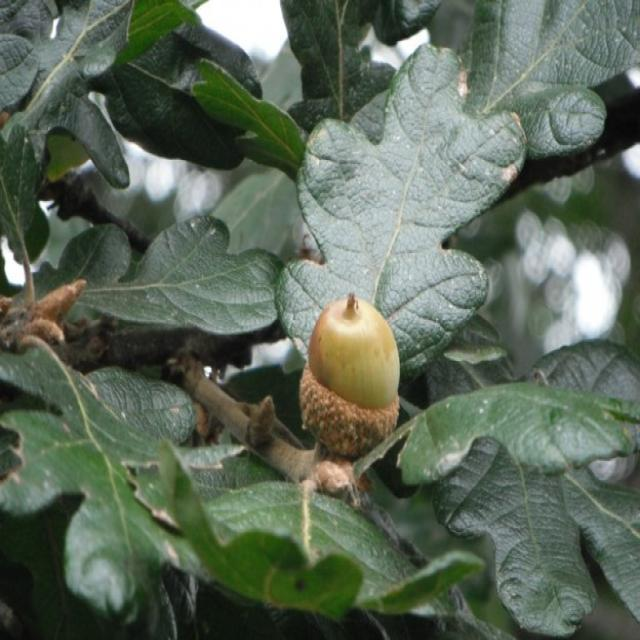Quercus garryana: (133, 56, 640, 635)
